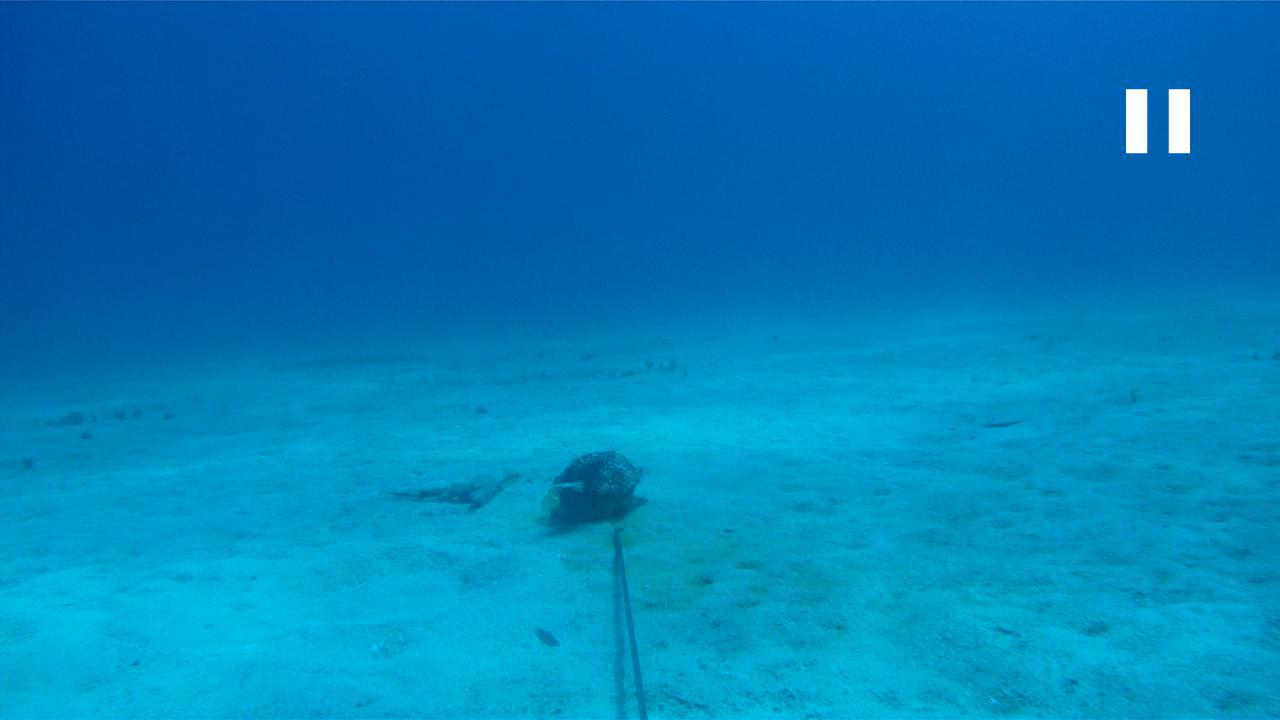bothus: (976, 413, 1031, 428)
